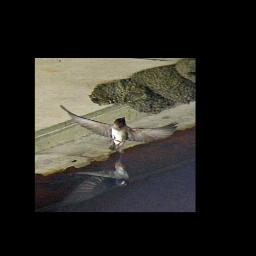Swallow: (57, 104, 181, 155)
